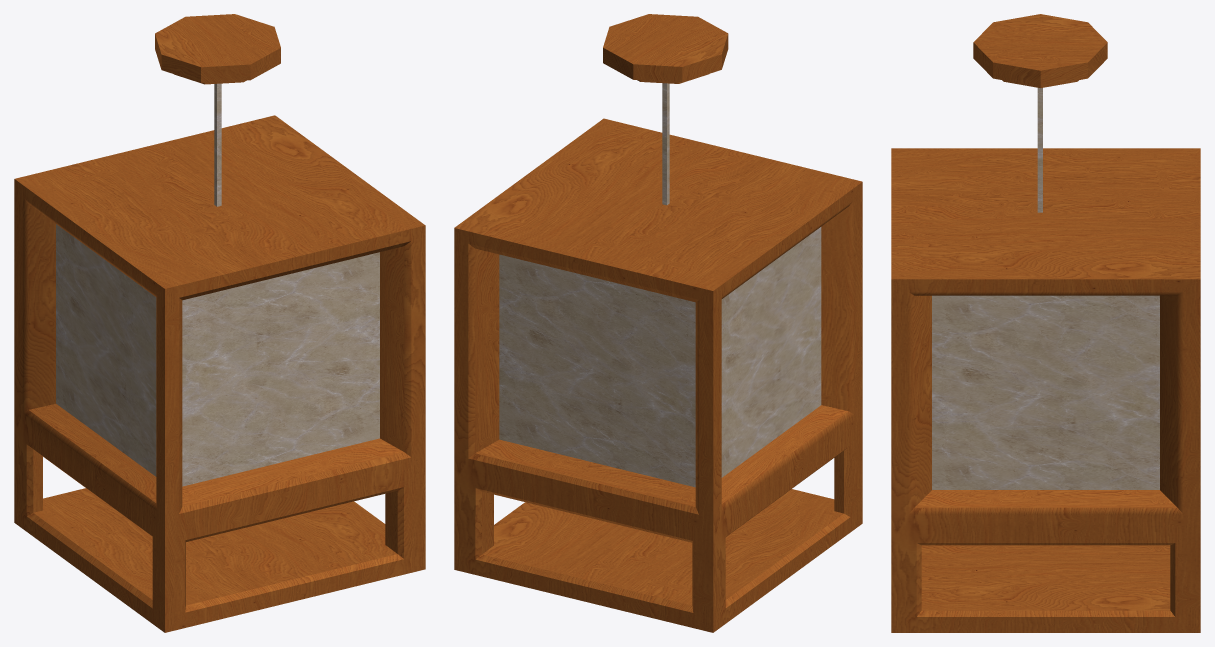
File: SM_R_Lantern_2.fbx
The picture shows the model from 3 angles, left to right: view 1: azimuth 30°, elevation 25°; view 2: azimuth 150°, elevation 25°; view 3: azimuth 270°, elevation 25°; orthographic projection. The views are drawn at different scales.
Parts seen in each view (by area): view 1: SM_R_Lantern_2; view 2: SM_R_Lantern_2; view 3: SM_R_Lantern_2.
Boxes of the visible parts, x1,y1,x2,y2 form: SM_R_Lantern_2: (14, 14, 425, 632); SM_R_Lantern_2: (454, 14, 862, 632); SM_R_Lantern_2: (891, 14, 1200, 632).
Size of the model in its own units: 24.31 by 24.31 by 45.33.
Materials: 1 (1 with a texture image).
